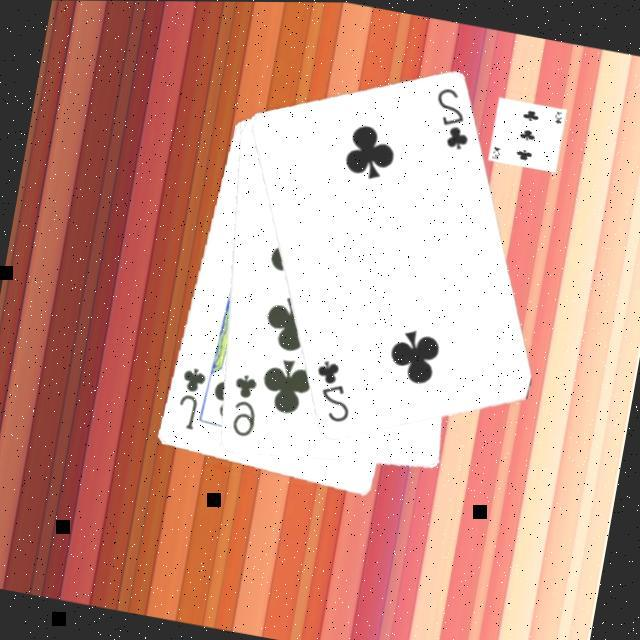2C: (306, 354, 363, 427), (426, 80, 481, 153)
9C: (223, 367, 268, 440)
JC: (171, 361, 212, 433)
